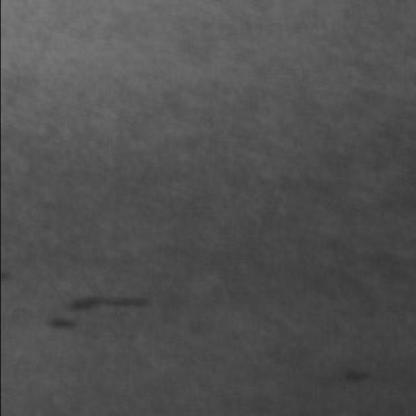inclusion: (44, 285, 158, 335), (337, 358, 383, 387)
